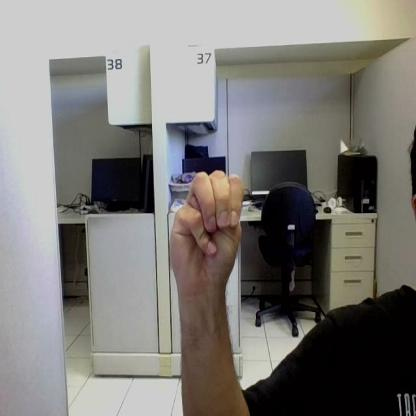M: (171, 172, 242, 286)
